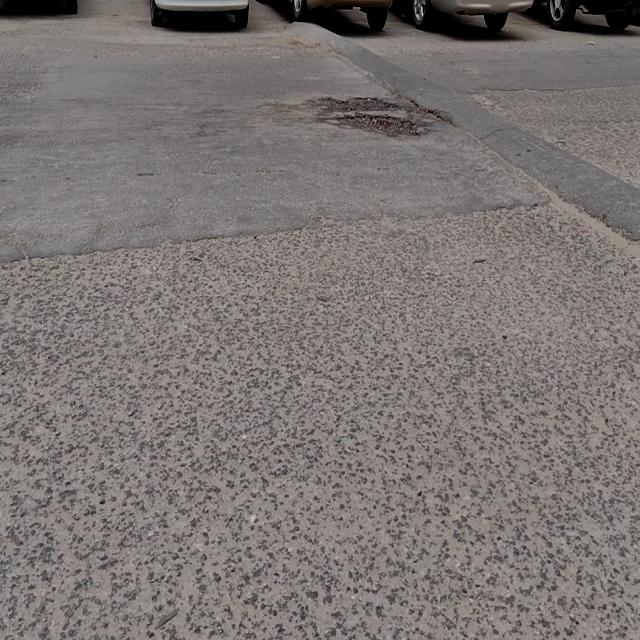Potholes: (308, 88, 422, 140)
